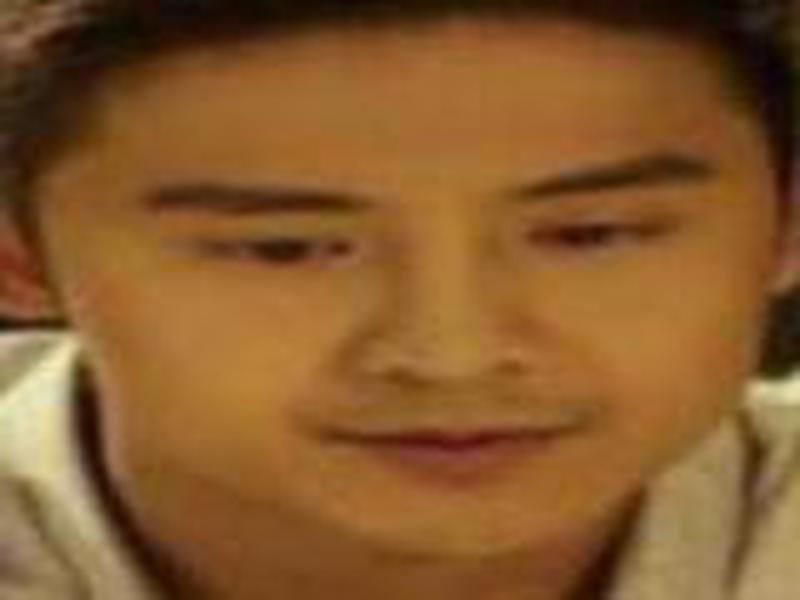without_mask: (76, 46, 759, 559)
